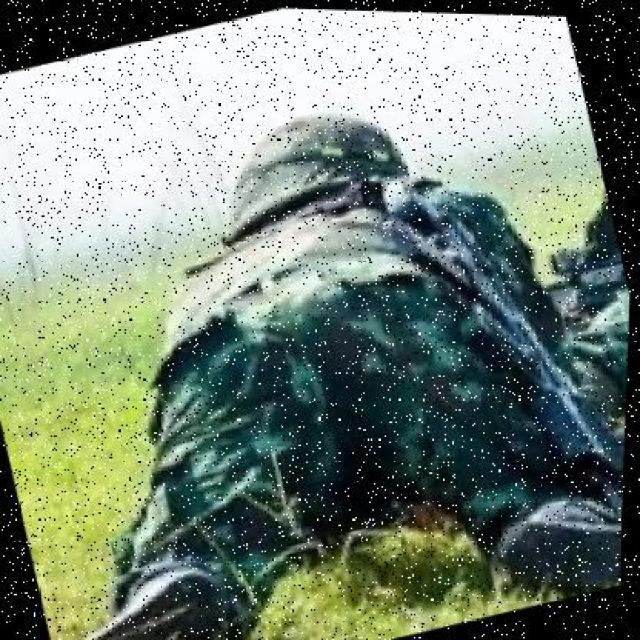MIL_Pax: (78, 31, 605, 640)
